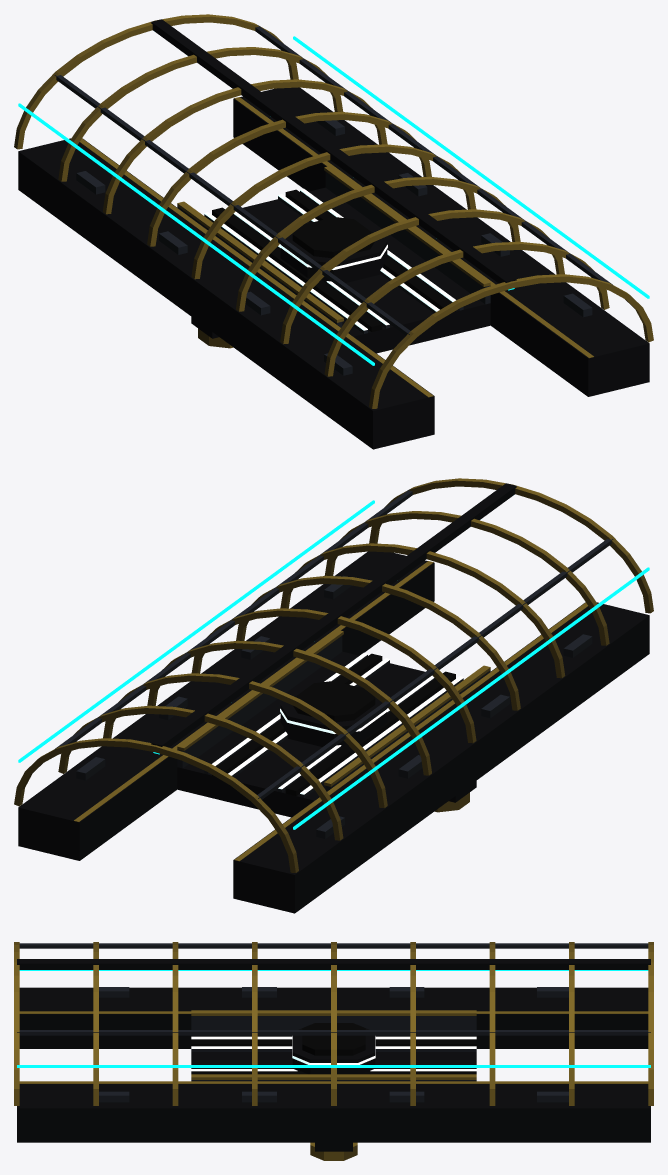
The model's file is shaddai_maglev_kit_v01.glb.
3 renders of one model, top to bottom at view 1: azimuth 30°, elevation 25°; view 2: azimuth 150°, elevation 25°; view 3: azimuth 270°, elevation 25°, orthographic. The views are drawn at different scales.
Visible parts, largest first — view 1: maglev_station_40m, maglev_deck_18m, maglev_pylon_foot, maglev_deck_18m_rails; view 2: maglev_station_40m, maglev_deck_18m, maglev_pylon_foot, maglev_deck_18m_rails; view 3: maglev_station_40m, maglev_deck_18m, maglev_pylon_foot, maglev_deck_18m_rails, maglev_bent_beam.
Part boxes in pixels (box(x1,y1,x2,y2)): maglev_station_40m: box(14, 14, 653, 449); maglev_deck_18m: box(177, 165, 490, 353); maglev_pylon_foot: box(280, 217, 387, 283); maglev_deck_18m_rails: box(204, 188, 455, 330); maglev_station_40m: box(14, 478, 653, 913); maglev_deck_18m: box(177, 629, 490, 817); maglev_pylon_foot: box(280, 681, 387, 747); maglev_deck_18m_rails: box(212, 652, 463, 794); maglev_station_40m: box(14, 942, 653, 1142); maglev_deck_18m: box(191, 1010, 476, 1081); maglev_pylon_foot: box(292, 1023, 375, 1074); maglev_deck_18m_rails: box(191, 1036, 476, 1071); maglev_bent_beam: box(310, 1142, 357, 1160).
Size of the model in its own units: 18.35 by 10.93 by 40.36.
